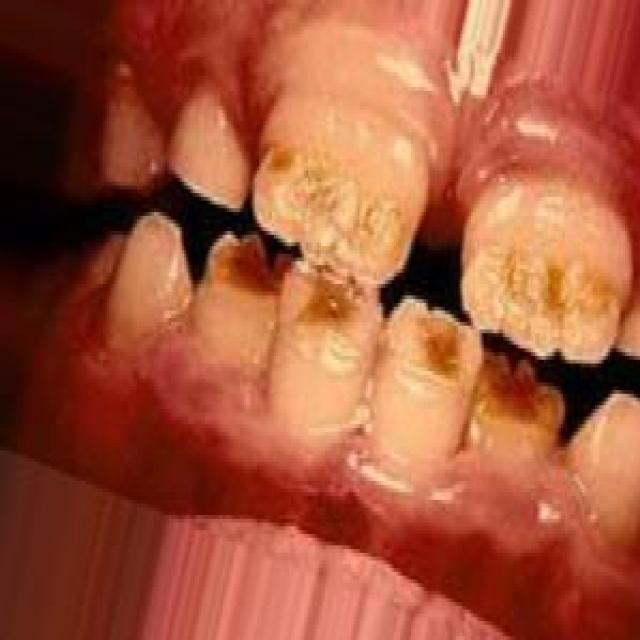caries: (256, 131, 406, 285), (463, 242, 621, 372), (276, 257, 384, 373), (386, 288, 484, 392), (475, 336, 563, 444), (207, 214, 279, 305)
